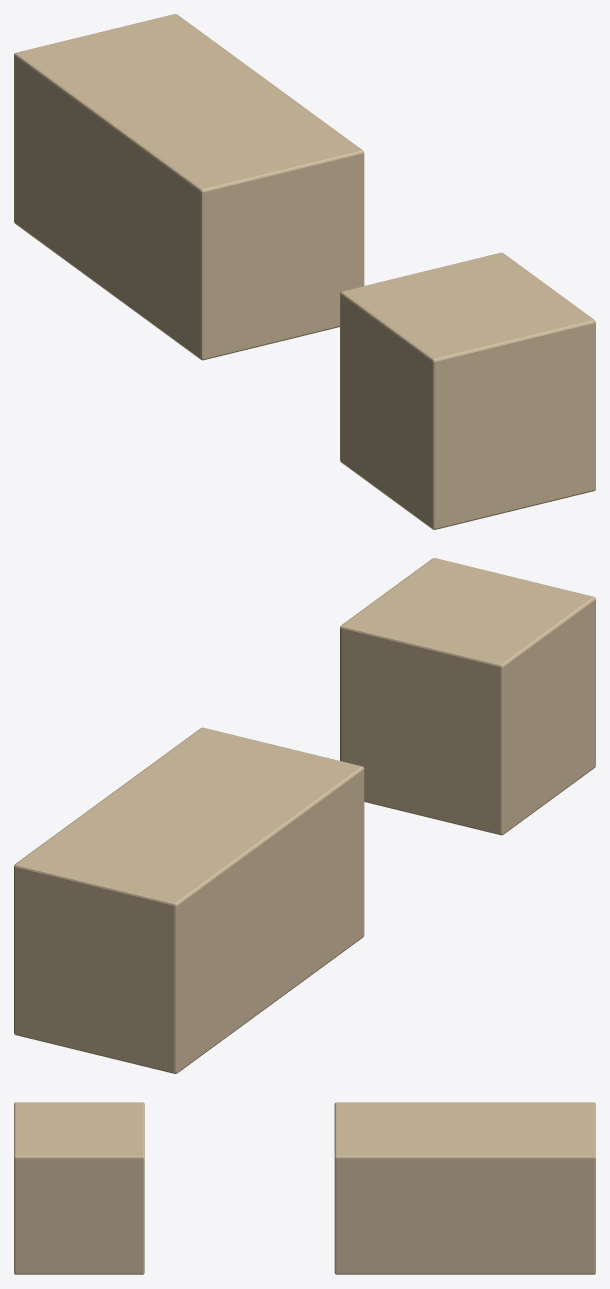
File: Stands.fbx
3 renders of one model, top to bottom at view 1: azimuth 30°, elevation 25°; view 2: azimuth 150°, elevation 25°; view 3: azimuth 270°, elevation 25°, orthographic. The views are drawn at different scales.
Parts seen in each view (by area): view 1: SM_stand_2, SM_stand_1; view 2: SM_stand_2, SM_stand_1; view 3: SM_stand_2, SM_stand_1.
Part boxes in pixels (x1,y1,x2,y2): SM_stand_2: (14,14,364,360); SM_stand_1: (340,252,595,529); SM_stand_2: (14,727,364,1073); SM_stand_1: (340,558,595,835); SM_stand_2: (334,1102,595,1274); SM_stand_1: (14,1102,144,1274).
Bounding box in the file's own units: 80 × 80 × 356.
